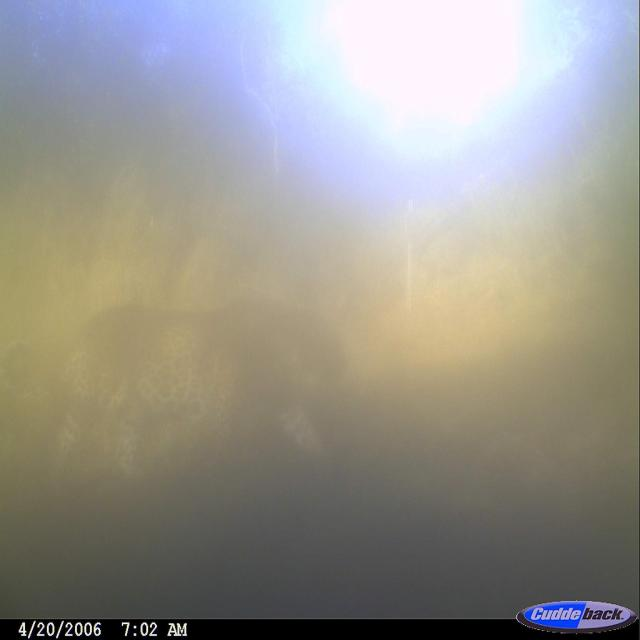Leopard: (0, 293, 346, 478)
